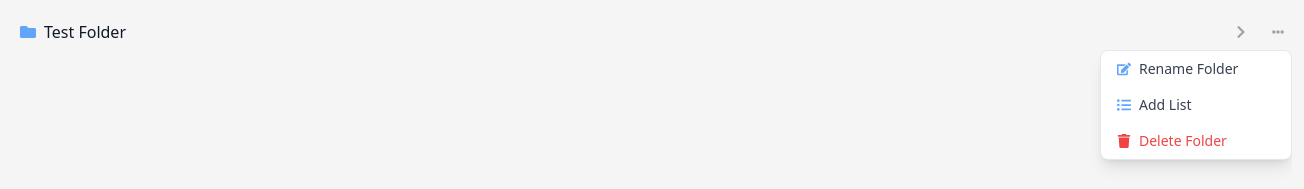
Test case: SidebarFolder › should show rename input when clicking rename option
Click the button "Rename Folder" at (1196, 69), box [1101,51,1291,87]
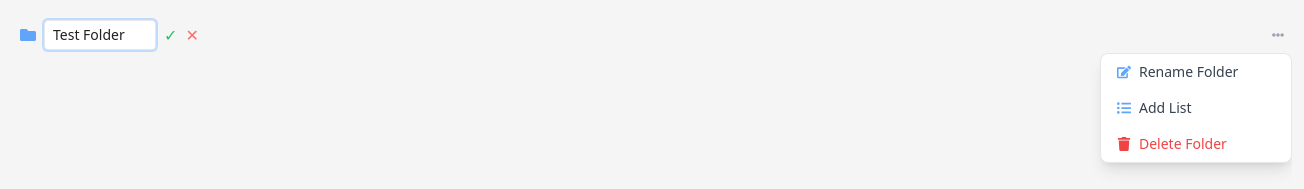
Expected: the field is shown, [44,20,156,50]
Expected: the button titled "Confirm" is shown, [164,23,177,47]
Expected: the button titled "Cancel" is shown, [185,23,199,47]
